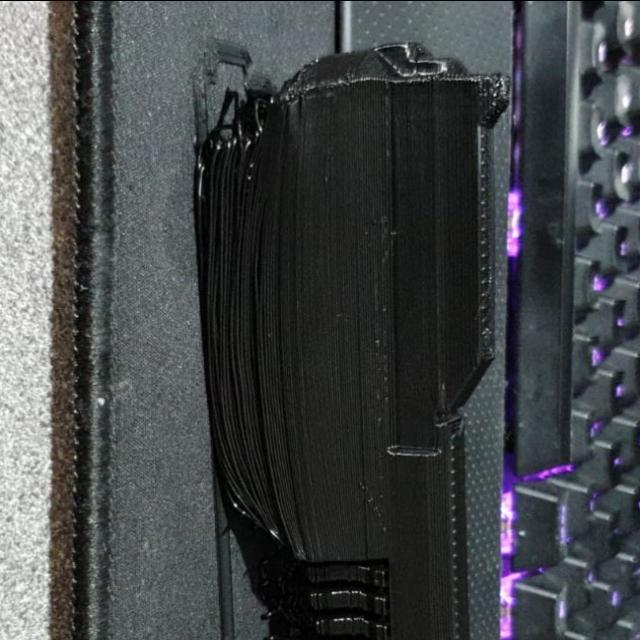Warping: (226, 480, 304, 560)
